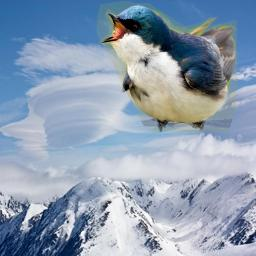Swallow: (97, 1, 237, 132)
